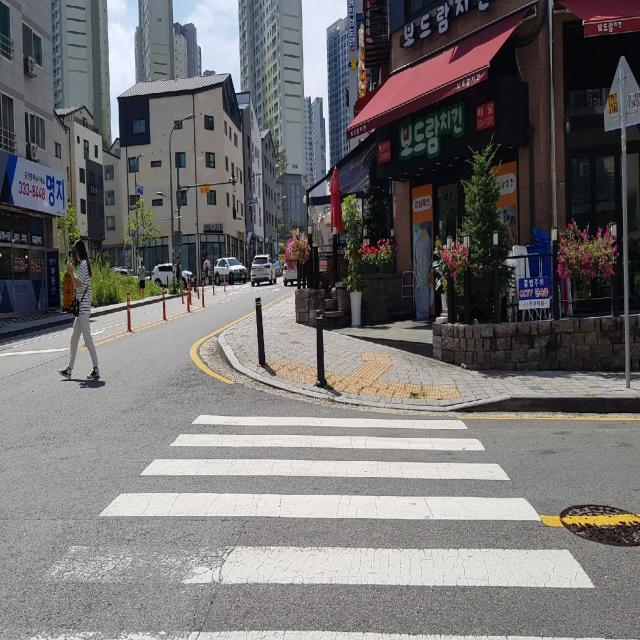횡단보도: (18, 410, 600, 640)
